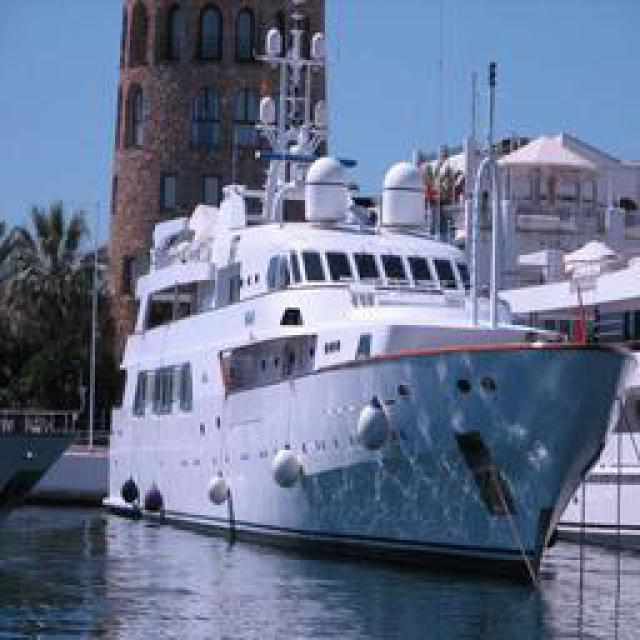Ship: (101, 1, 629, 591)
